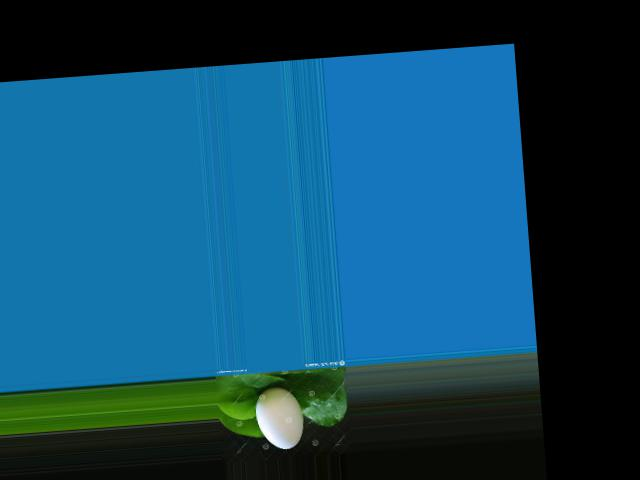egg: (253, 385, 305, 450)
